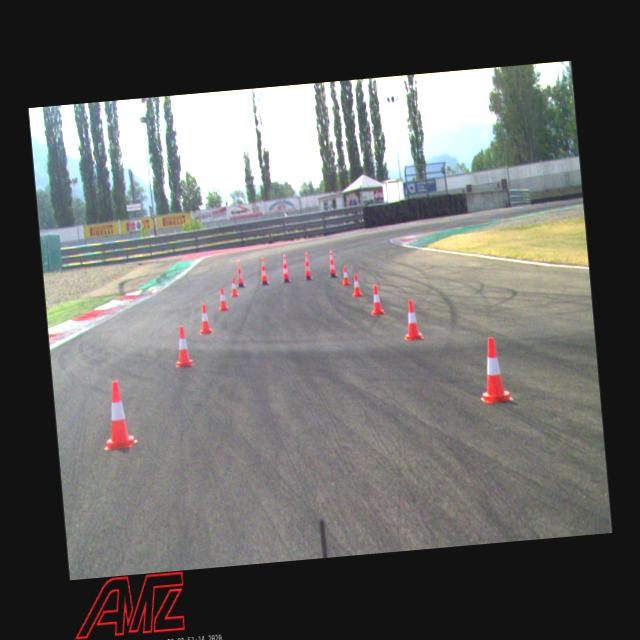large_orange_cone: (233, 259, 244, 288), (327, 250, 338, 278), (280, 254, 290, 283), (302, 252, 312, 280), (258, 256, 268, 284)
orange_cone: (98, 380, 138, 450), (474, 334, 512, 404), (402, 298, 424, 340), (172, 324, 193, 366), (368, 284, 384, 316), (197, 303, 213, 334), (350, 272, 362, 296), (216, 286, 228, 310), (228, 276, 238, 297), (340, 266, 350, 286)
